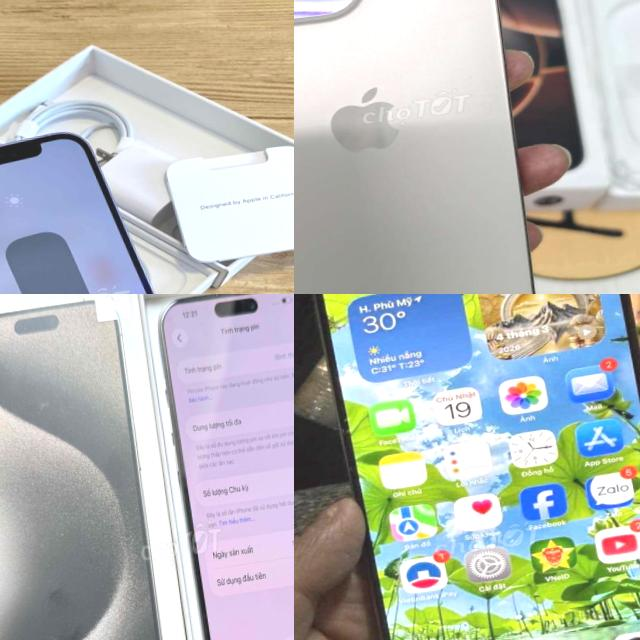gen_12_13: (0, 119, 218, 294)
gen_15: (296, 294, 640, 640), (146, 294, 294, 640)
gen_16: (294, 0, 533, 294)
